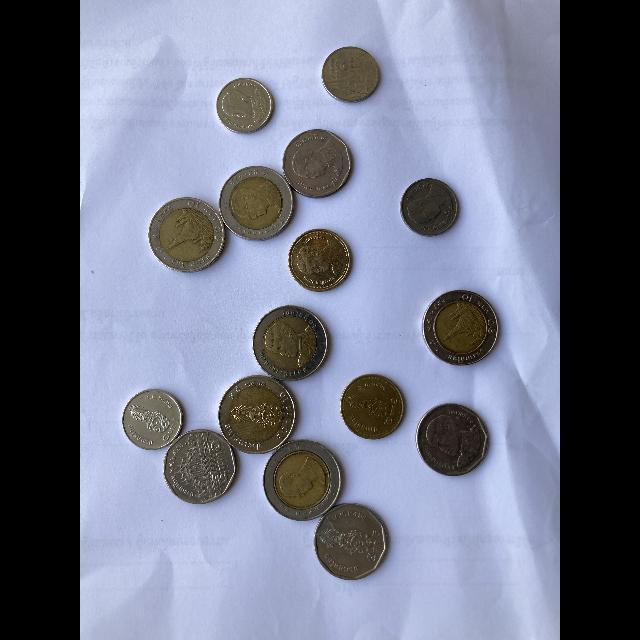1 Bath: (398, 173, 466, 243), (318, 44, 386, 107), (123, 388, 187, 450), (216, 76, 278, 138)
10 Bath: (260, 439, 351, 525), (216, 372, 302, 456), (214, 163, 299, 243), (146, 196, 230, 276), (250, 304, 332, 384), (422, 287, 504, 366)
2 Bath: (287, 226, 356, 296), (340, 373, 408, 440)
5 Bath: (311, 500, 395, 586), (414, 397, 497, 482), (160, 425, 244, 507), (278, 126, 356, 202)
